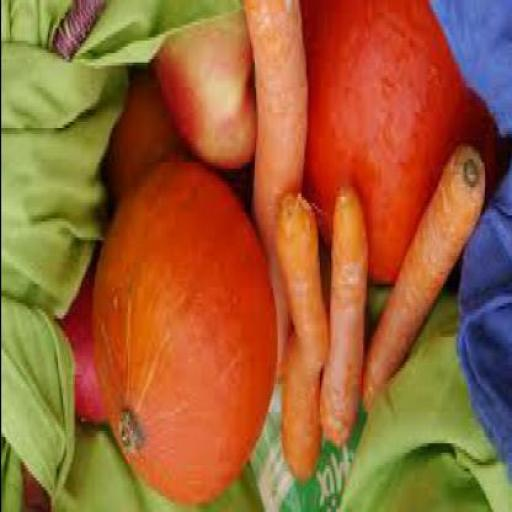biodegradable: (90, 162, 272, 509), (309, 3, 493, 294), (357, 147, 484, 418), (241, 3, 305, 381), (157, 9, 255, 172), (278, 203, 328, 484), (316, 196, 365, 450), (100, 74, 168, 200), (57, 284, 102, 431)
